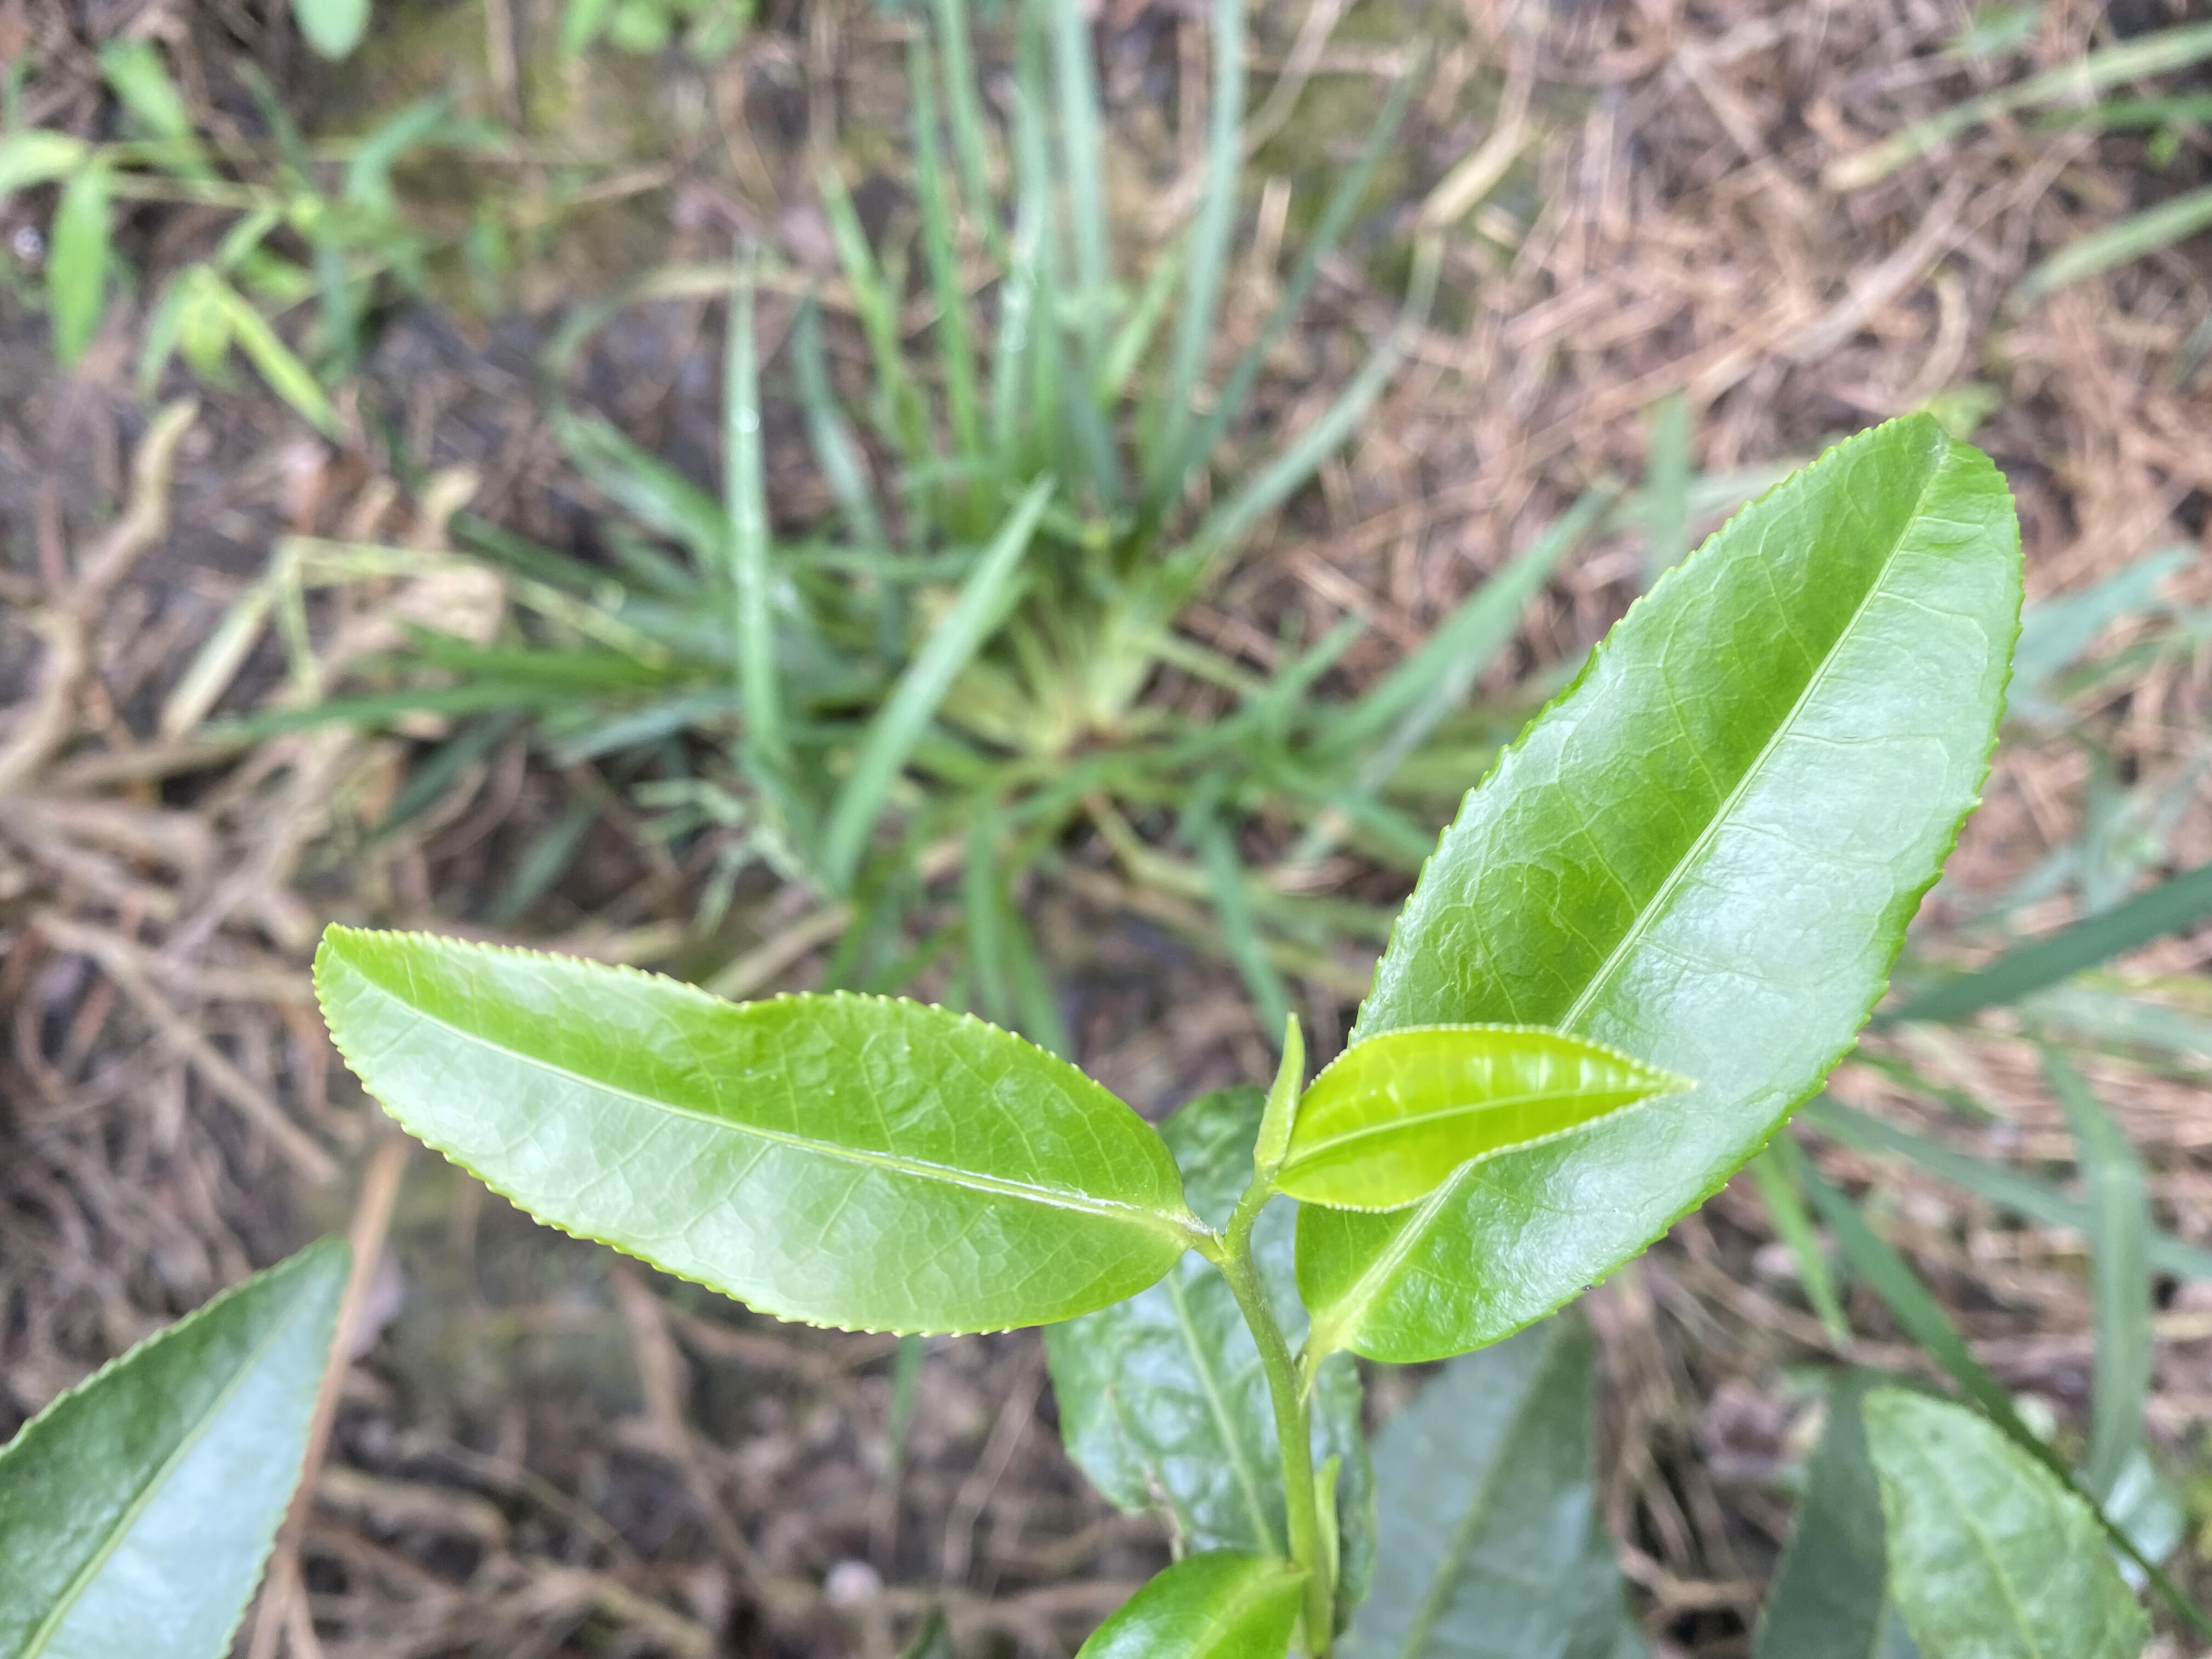healthy: (1296, 408, 2027, 1368), (308, 917, 1191, 1344), (1275, 1021, 1696, 1215)
